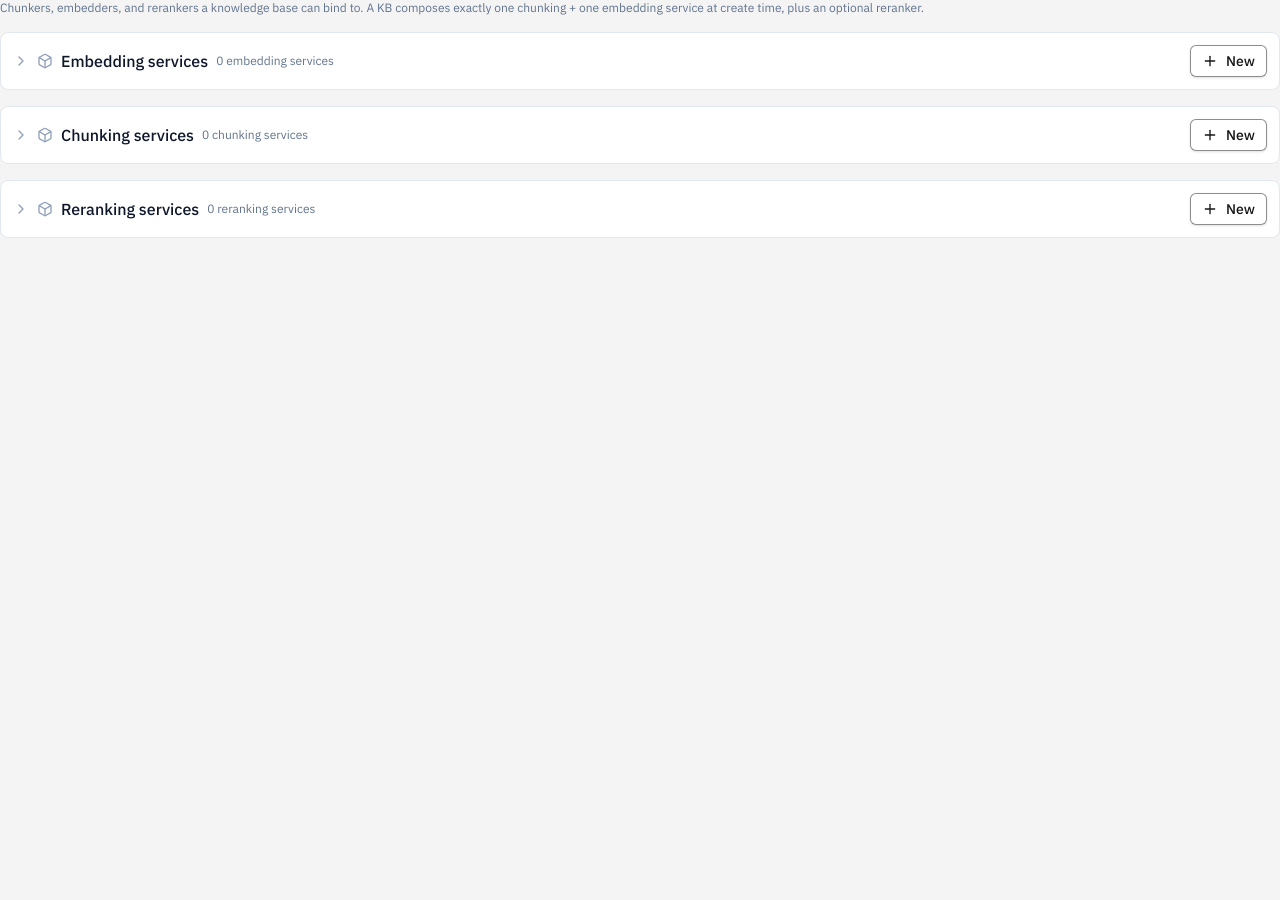
Test: ServicesPanel › opens the chunking create dialog with its engine and strategy fields
Order in the DOM: embedding (0), chunking (1), reranking (2).
Click the 2nd button "New".
click(1229, 135)  # box [1190, 119, 1267, 151]
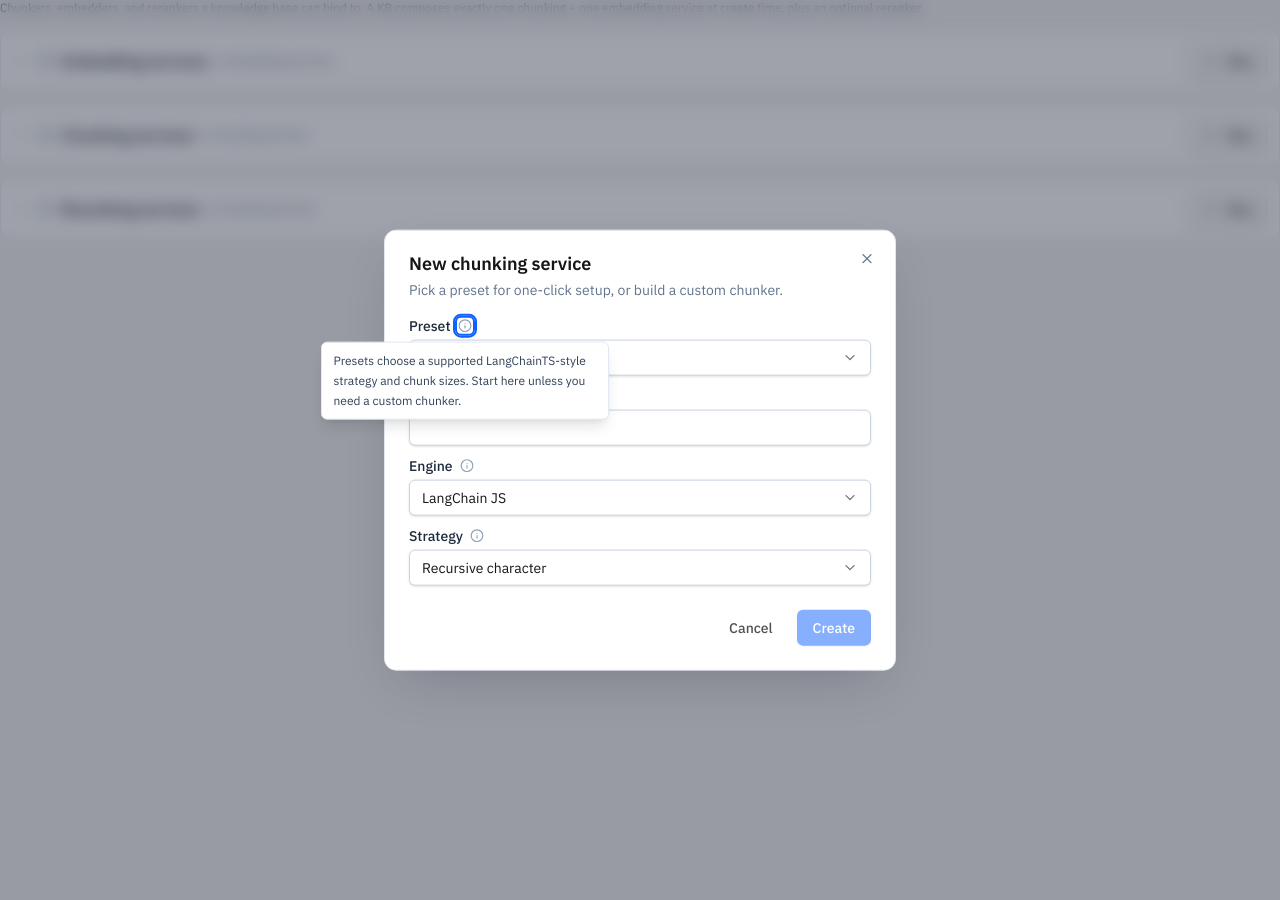
Check: the heading "New chunking service" is shown, box [409, 252, 591, 275]
Check: the dropdown named "Engine" is shown, box [409, 479, 871, 515]
Check: the dropdown named "Strategy" is shown, box [409, 549, 871, 585]
